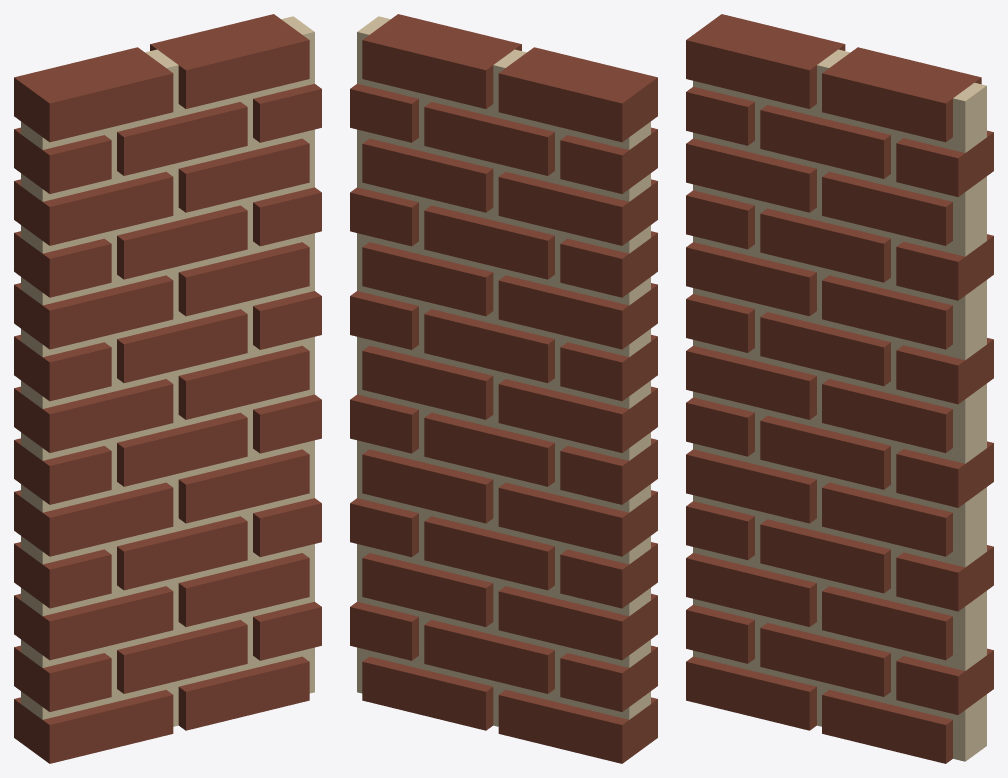
File: brick_wall.obj
The picture shows the model from 3 angles, left to right: view 1: azimuth 30°, elevation 25°; view 2: azimuth 150°, elevation 25°; view 3: azimuth 330°, elevation 25°; orthographic projection.
Size of the model in its own units: 2.2 by 5.1 by 0.5.
1 material, 1 textured.
